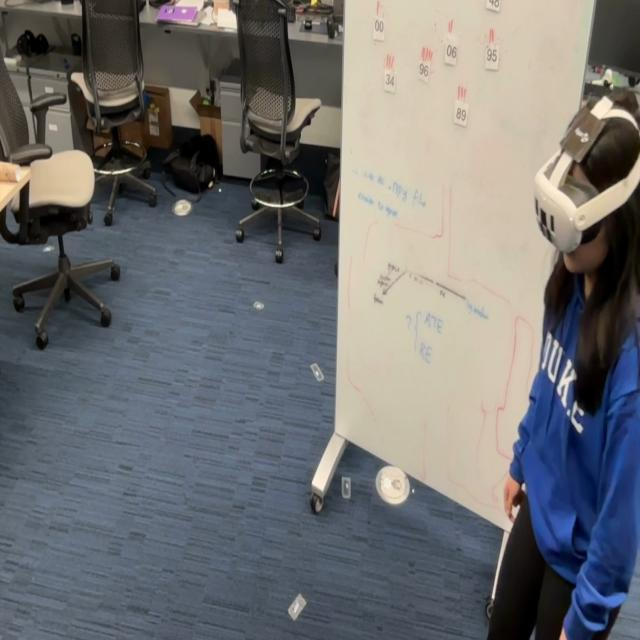Headset: (533, 88, 639, 255)
UnityLogo: (558, 100, 604, 167)
